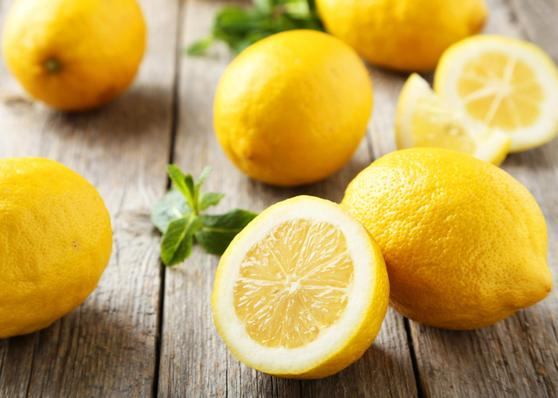lemon: (212, 23, 375, 183)
